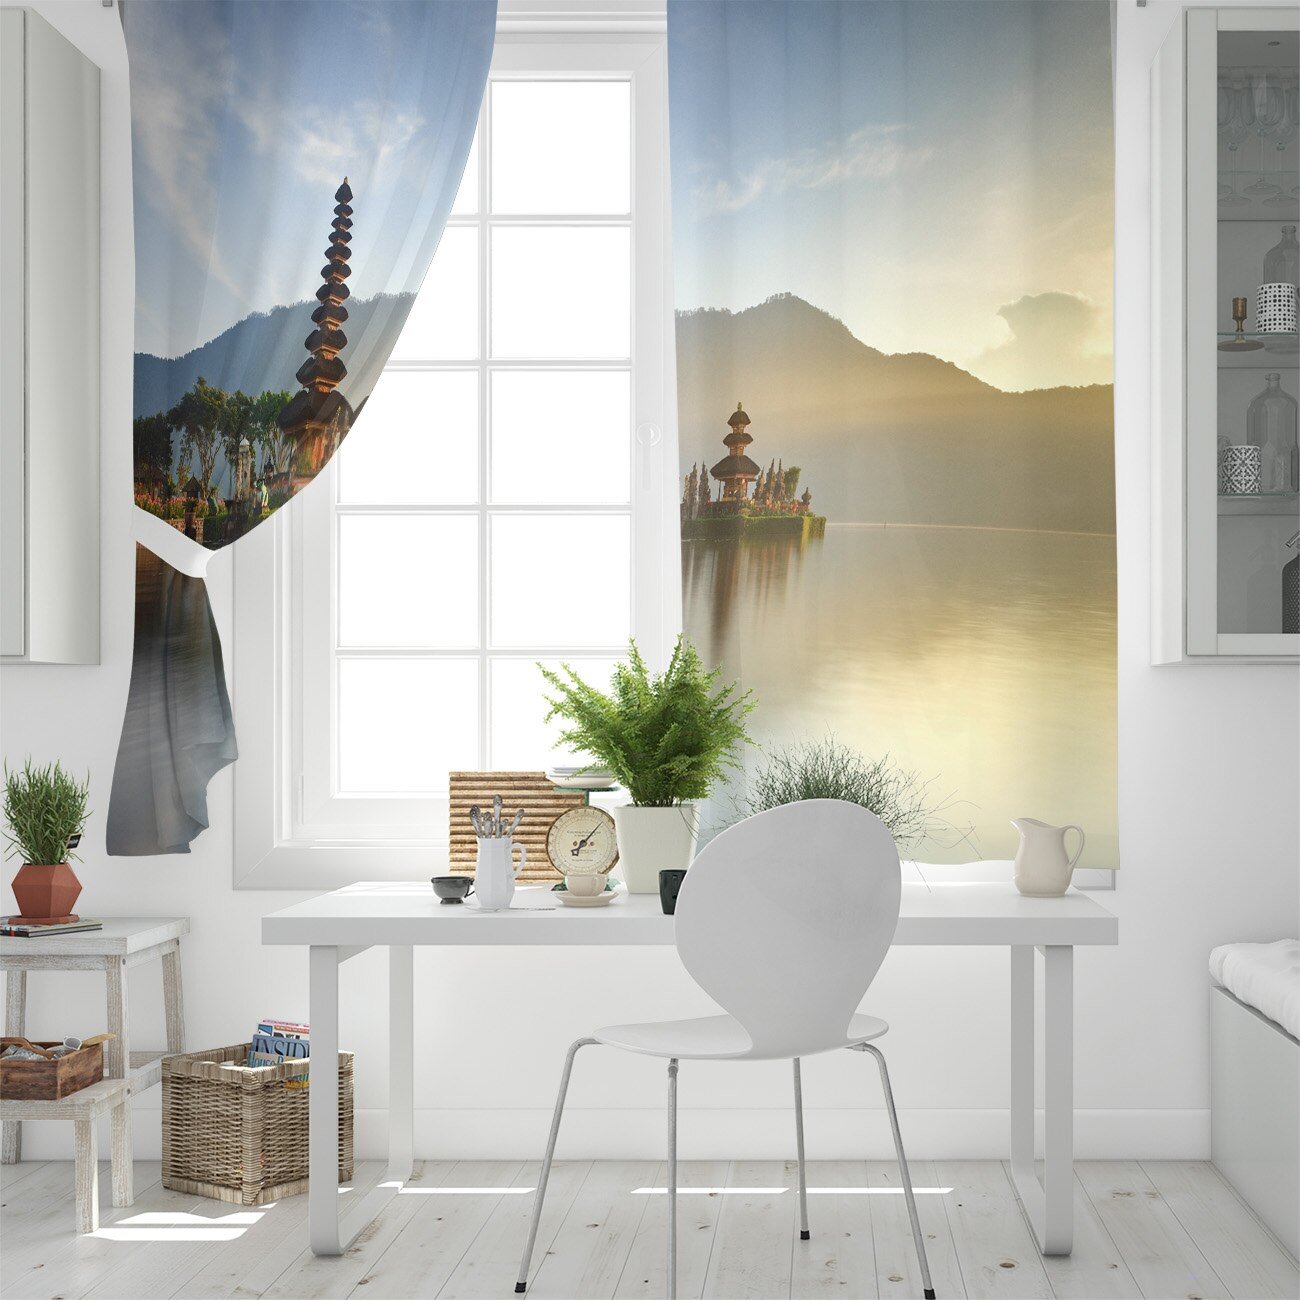gelas: (554, 860, 614, 911), (1254, 277, 1300, 340), (1221, 442, 1267, 496), (433, 869, 474, 907)
jam dinding: (550, 810, 617, 877)
kursi: (520, 794, 946, 1298)
meja: (254, 873, 1121, 1271)
tanaman: (575, 640, 712, 889), (1, 757, 92, 918)
